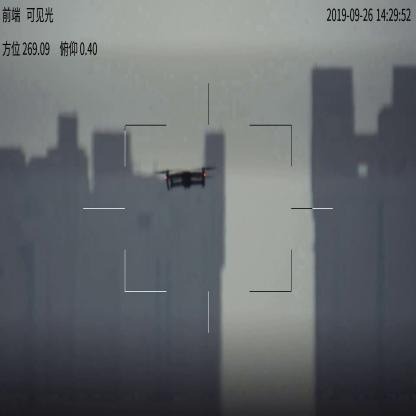uav: (154, 164, 216, 190)
